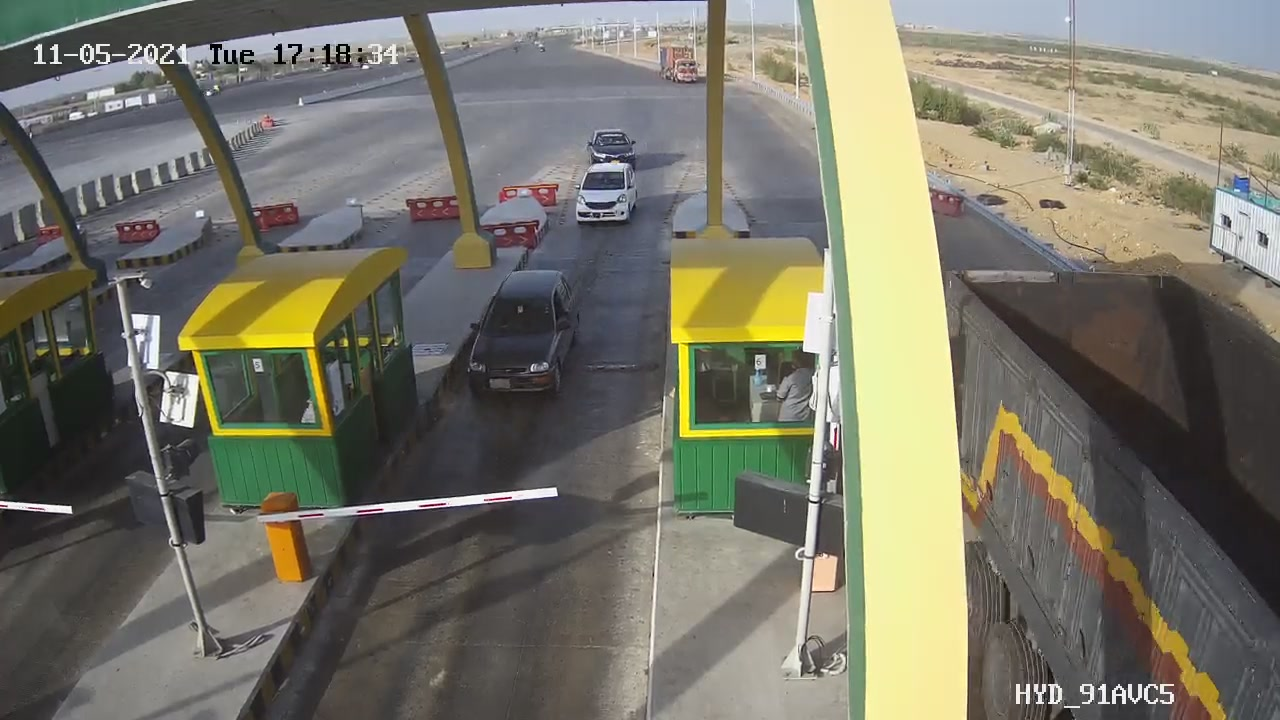F1: (455, 257, 592, 418)
